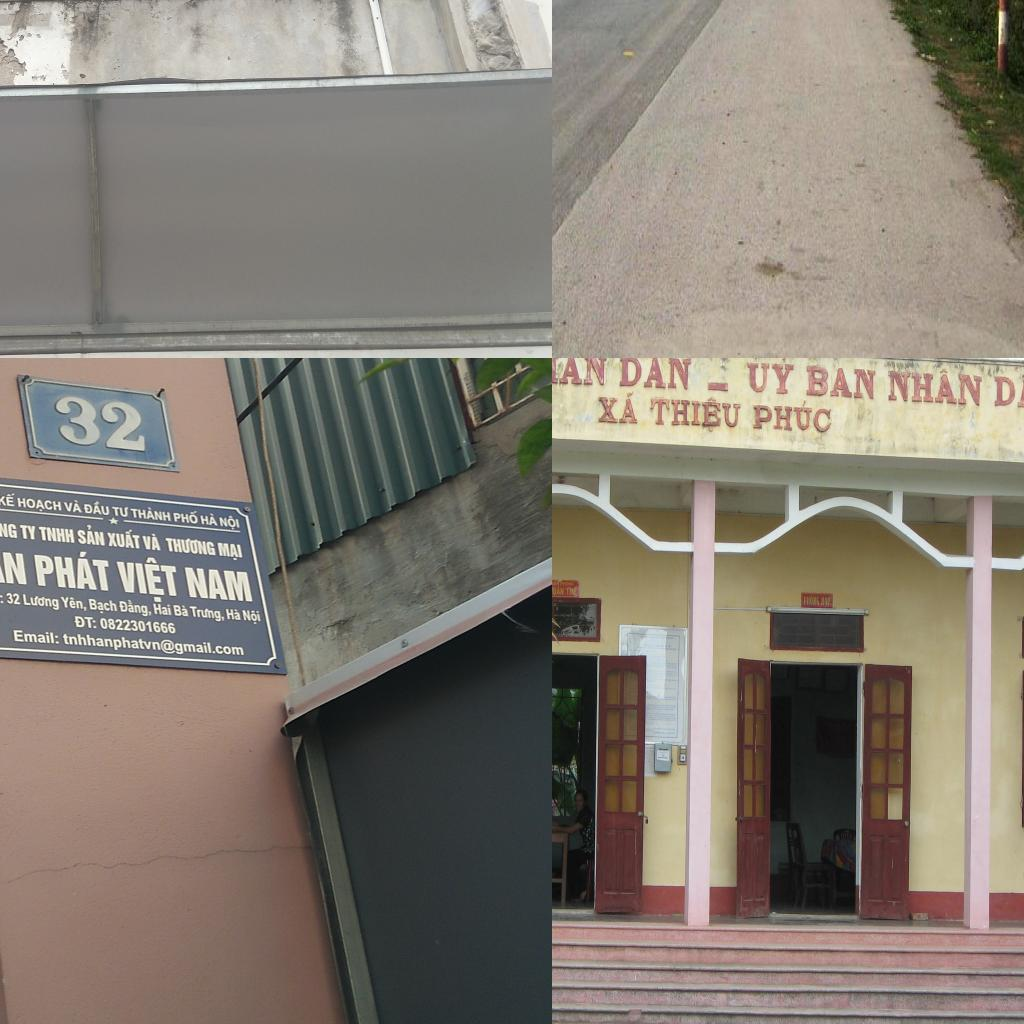text: (52, 394, 148, 455), (886, 363, 983, 408), (648, 392, 742, 434), (32, 547, 113, 593), (114, 555, 183, 605), (752, 397, 834, 435), (804, 362, 878, 403), (183, 566, 254, 604), (617, 358, 693, 393), (745, 358, 795, 395), (552, 358, 609, 389), (597, 389, 640, 426), (98, 617, 178, 635), (993, 368, 1024, 414), (164, 536, 217, 557), (0, 550, 29, 587), (10, 628, 61, 645), (129, 505, 173, 523), (17, 497, 63, 514), (106, 528, 141, 550), (38, 525, 75, 544), (75, 524, 105, 547), (23, 594, 60, 612), (118, 600, 154, 618), (188, 606, 226, 622), (216, 542, 245, 562), (88, 598, 118, 616), (60, 595, 88, 613), (80, 501, 110, 517), (172, 509, 199, 525), (142, 533, 163, 552), (72, 615, 98, 630), (0, 518, 18, 539), (218, 515, 241, 531), (62, 499, 84, 515), (241, 609, 263, 625), (18, 524, 37, 542), (199, 513, 219, 527), (153, 603, 173, 617), (111, 506, 130, 520), (172, 604, 190, 618), (0, 492, 16, 507), (5, 592, 22, 606), (225, 608, 241, 622), (804, 594, 820, 606), (566, 584, 578, 596), (821, 596, 832, 607), (553, 586, 564, 596), (560, 581, 575, 587), (552, 581, 559, 587)
